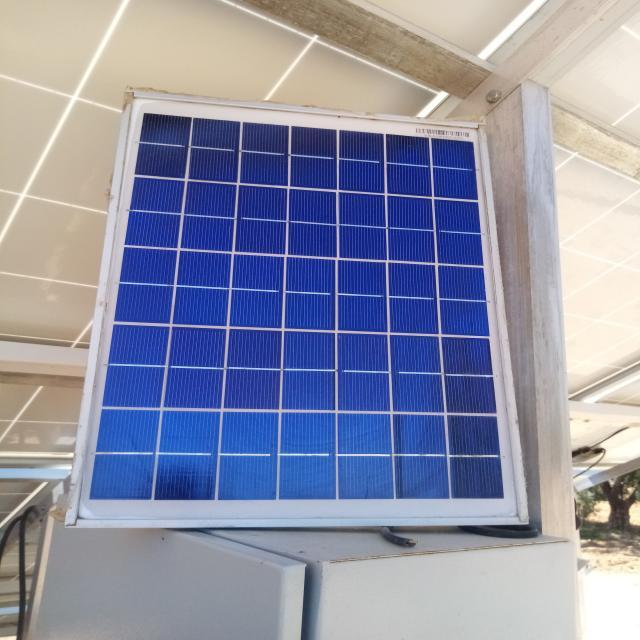no faulty: (71, 91, 524, 524)
